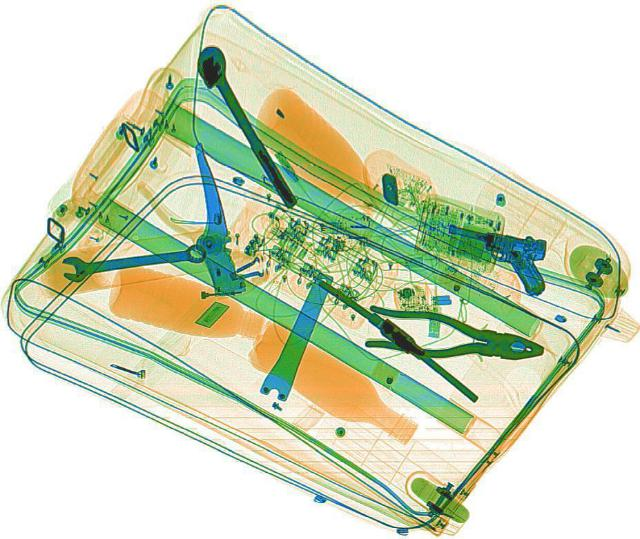Gun: (426, 216, 562, 297)
Pliers: (360, 302, 546, 370)
Wrench: (56, 240, 206, 283)
